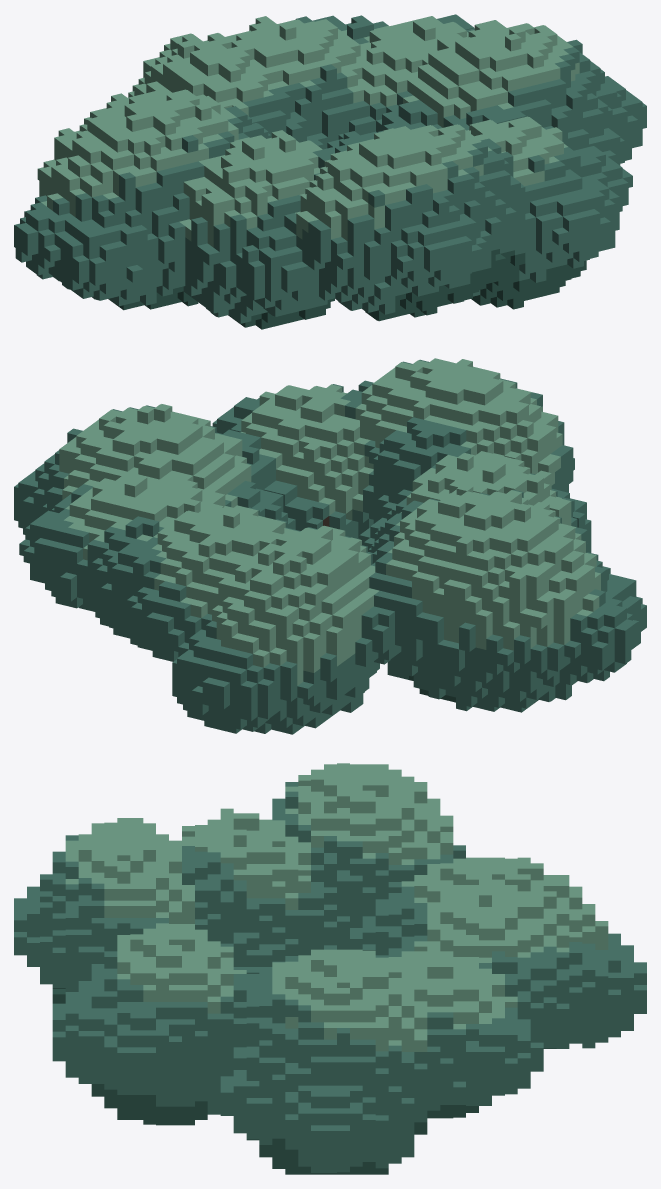
The model's file is dense_bush_v2_species2_near.glb.
3 renders of one model, top to bottom at view 1: azimuth 30°, elevation 25°; view 2: azimuth 150°, elevation 25°; view 3: azimuth 270°, elevation 25°, orthographic. The views are drawn at different scales.
Visible parts, largest first — view 1: dense_bush_v2_species2_near; view 2: dense_bush_v2_species2_near; view 3: dense_bush_v2_species2_near.
Part boxes in pixels (x1=…): dense_bush_v2_species2_near: x1=14, y1=14, x2=646, y2=329; dense_bush_v2_species2_near: x1=14, y1=358, x2=646, y2=734; dense_bush_v2_species2_near: x1=14, y1=763, x2=646, y2=1174.
Size of the model in its own units: 3.62 by 1.06 by 3.06.
1 material, 1 textured.
